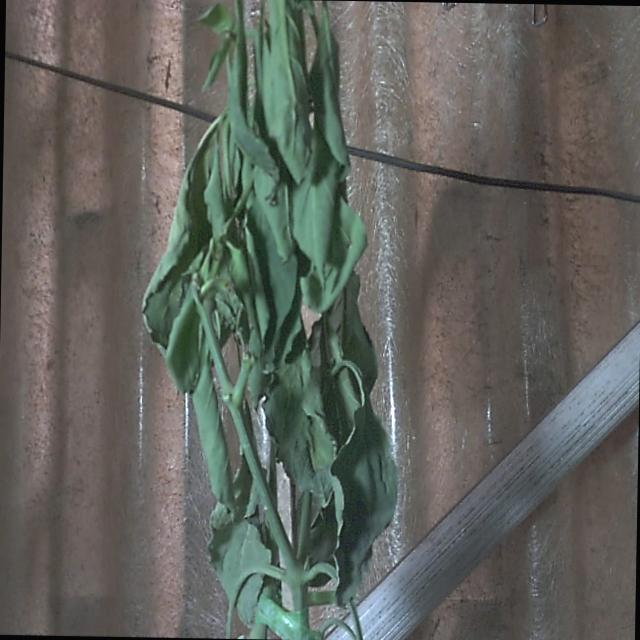Leaf: (142, 120, 218, 351), (333, 403, 397, 603), (264, 350, 335, 506), (256, 0, 311, 183), (308, 5, 348, 179), (192, 348, 234, 513), (209, 520, 269, 626), (199, 4, 233, 34)
